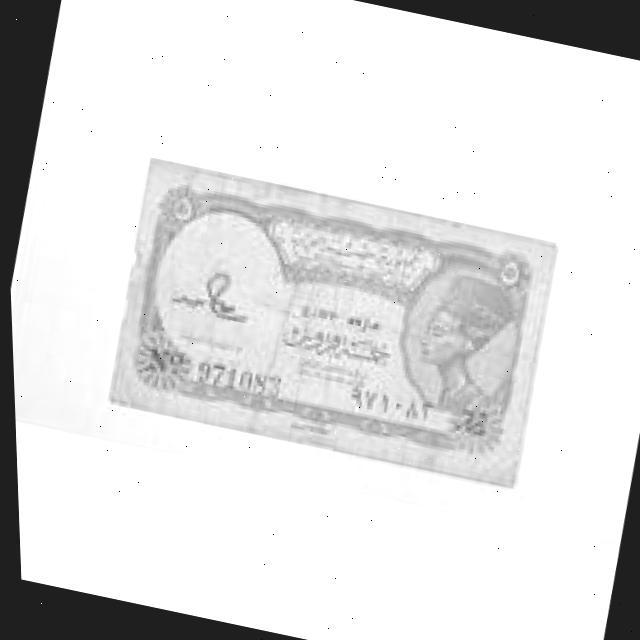banknote: (93, 154, 564, 489)
